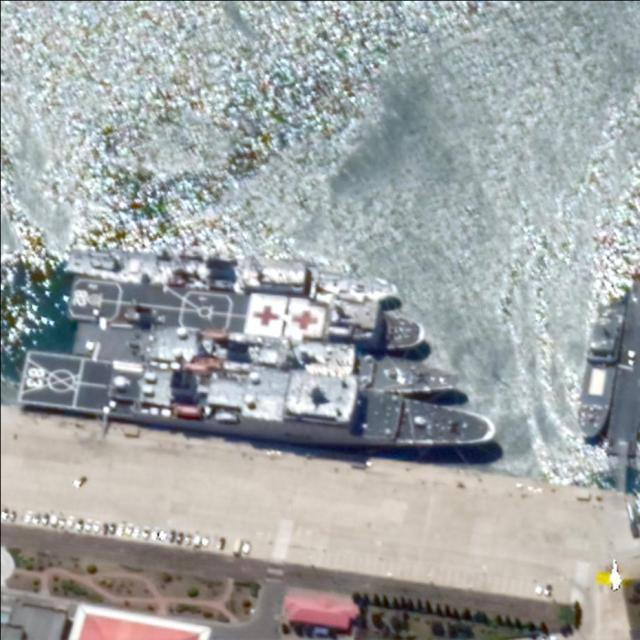Auxiliary Ships: (17, 348, 506, 460), (70, 320, 460, 393), (68, 275, 427, 353), (63, 242, 403, 305)
Landing: (573, 299, 625, 440)
